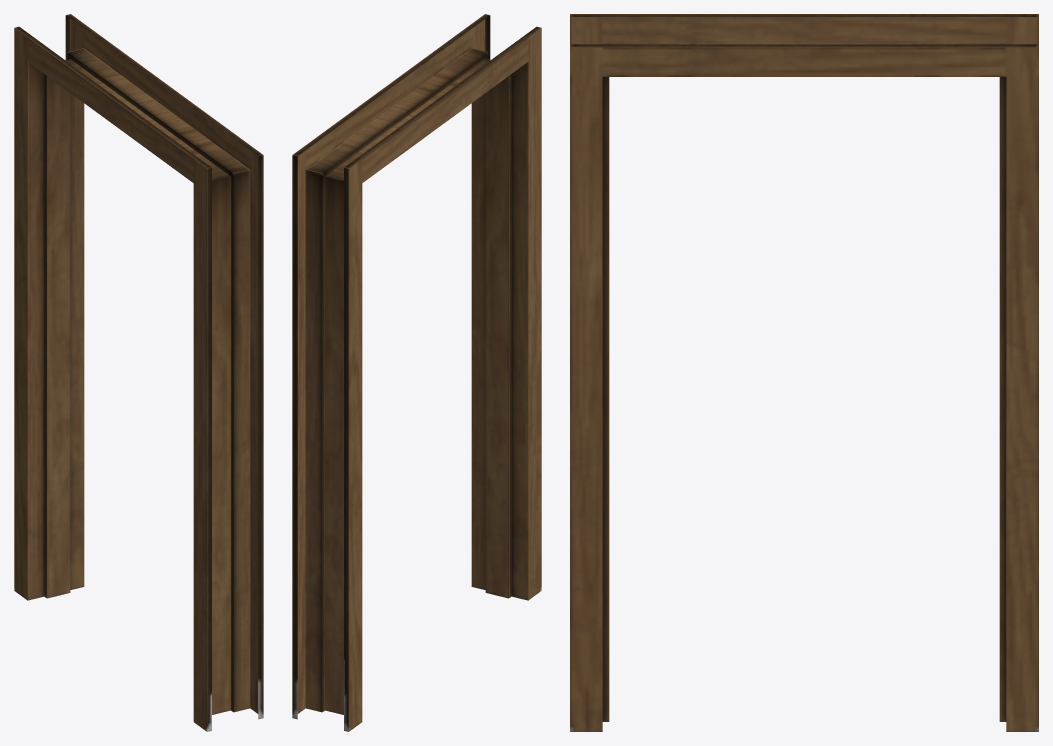
Rendered from Door Frame A.fbx.
3 renders of one model, left to right at view 1: azimuth 30°, elevation 25°; view 2: azimuth 150°, elevation 25°; view 3: azimuth 270°, elevation 25°, orthographic. The views are drawn at different scales.
Parts seen in each view (by area): view 1: Door_Frame_A; view 2: Door_Frame_A; view 3: Door_Frame_A.
Part boxes in pixels (x1,y1,x2,y2): Door_Frame_A: (14, 14, 263, 731); Door_Frame_A: (292, 14, 541, 731); Door_Frame_A: (570, 14, 1038, 731).
Bounding box in the file's own units: 24.37 × 232 × 144.
